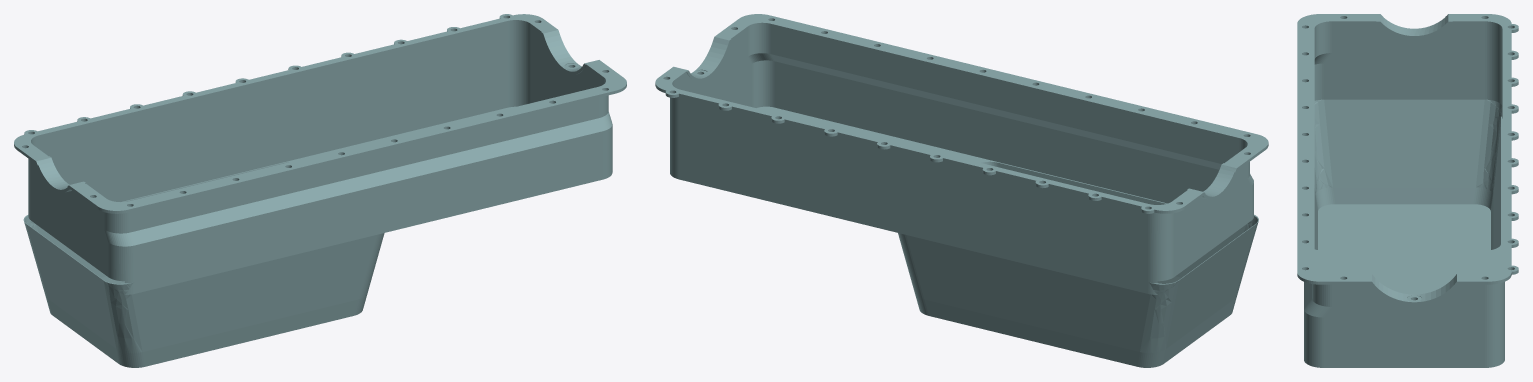
Rendered from oil-pan.glb.
3 renders of one model, left to right at view 1: azimuth 30°, elevation 25°; view 2: azimuth 150°, elevation 25°; view 3: azimuth 270°, elevation 25°, orthographic. The views are drawn at different scales.
Parts seen in each view (by area): view 1: world; view 2: world; view 3: world.
Part boxes in pixels (x1,y1,x2,y2): world: (14,14,626,367); world: (655,14,1268,367); world: (1297,14,1518,367).
Bounding box in the file's own units: 0.762 × 0.2349 × 0.2666.
